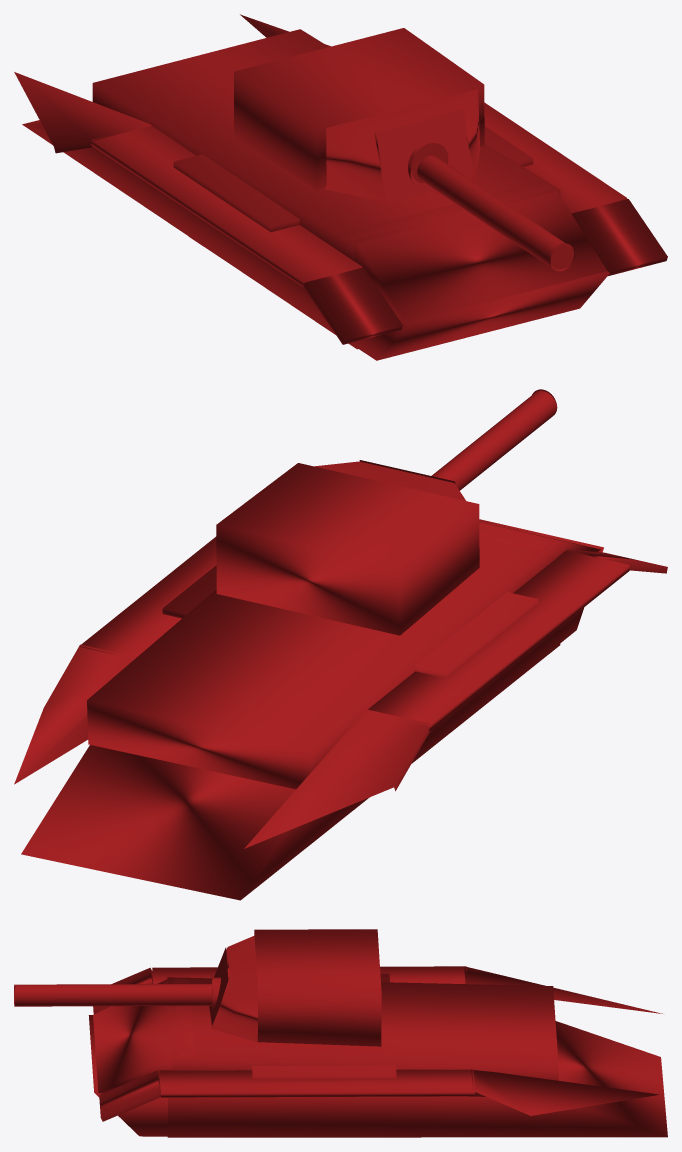
The model's file is tank3.fbx.
3 views of the same model, one above another, from view 1: azimuth 30°, elevation 25°; view 2: azimuth 150°, elevation 25°; view 3: azimuth 270°, elevation 25° (orthographic). The views are drawn at different scales.
Visible parts, largest first — view 1: tank, tank_002; view 2: tank, tank_002; view 3: tank, tank_002.
Part boxes in pixels (left/top/right/bottom): tank: left=14, top=14, right=667, bottom=360; tank_002: left=234, top=28, right=574, bottom=271; tank: left=14, top=519, right=667, bottom=900; tank_002: left=216, top=389, right=557, bottom=635; tank: left=88, top=966, right=667, bottom=1137; tank_002: left=14, top=929, right=381, bottom=1046.
Bounding box in the file's own units: 5.35 × 2.72 × 11.33.
